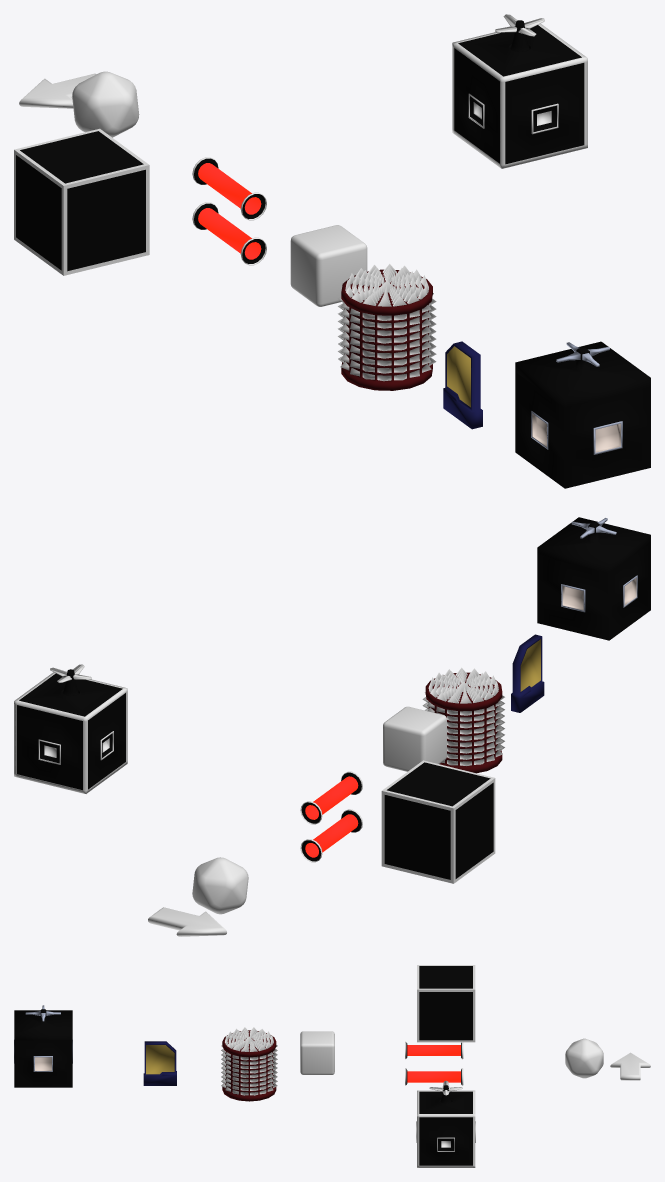
The model's file is lasers.glb.
3 views of the same model, one above another, from view 1: azimuth 30°, elevation 25°; view 2: azimuth 150°, elevation 25°; view 3: azimuth 270°, elevation 25° (orthographic). The views are drawn at different scales.
Parts seen in each view (by area): view 1: Cube, elevator_bottom, spikes, Cube.003, Cube.002, elevator, Cube.001, Cube.005, Icosphere, key, Plane, Cube.004; view 2: Cube, elevator_bottom, Cube.003, spikes, Cube.002, elevator, Cube.001, Cube.005, Icosphere, key, Plane; view 3: Cube, spikes, elevator_bottom, Cube.003, Cube.002, elevator, Cube.001, key, Cube.005, Icosphere, Plane.
Part boxes in pixels (x1,y1,x2,y2): Cube: (14, 128, 149, 275); elevator_bottom: (515, 372, 650, 488); spikes: (338, 264, 436, 390); Cube.003: (452, 57, 587, 168); Cube.002: (452, 23, 587, 92); elevator: (515, 341, 650, 407); Cube.001: (290, 225, 367, 306); Cube.005: (192, 157, 266, 265); Icosphere: (72, 71, 139, 137); key: (443, 341, 482, 429); Plane: (19, 73, 96, 108); Cube.004: (495, 14, 544, 51); Cube: (381, 760, 495, 883); elevator_bottom: (537, 543, 650, 640); Cube.003: (14, 700, 127, 793); spikes: (422, 667, 504, 773); Cube.002: (14, 672, 127, 730); elevator: (537, 517, 650, 572); Cube.001: (383, 706, 446, 771); Cube.005: (300, 771, 362, 862); Icosphere: (192, 857, 248, 914); key: (511, 634, 544, 712); Plane: (148, 907, 226, 936); Cube: (417, 965, 475, 1042); spikes: (221, 1027, 277, 1101); elevator_bottom: (14, 1040, 72, 1087); Cube.003: (416, 1121, 475, 1167); Cube.002: (417, 1090, 475, 1123); elevator: (14, 1010, 72, 1040); Cube.001: (300, 1031, 334, 1074); key: (143, 1041, 176, 1085); Cube.005: (405, 1041, 463, 1085); Icosphere: (565, 1038, 603, 1078); Plane: (610, 1052, 650, 1080).
Bounding box in the file's own units: 12.21 × 3.41 × 21.88.
